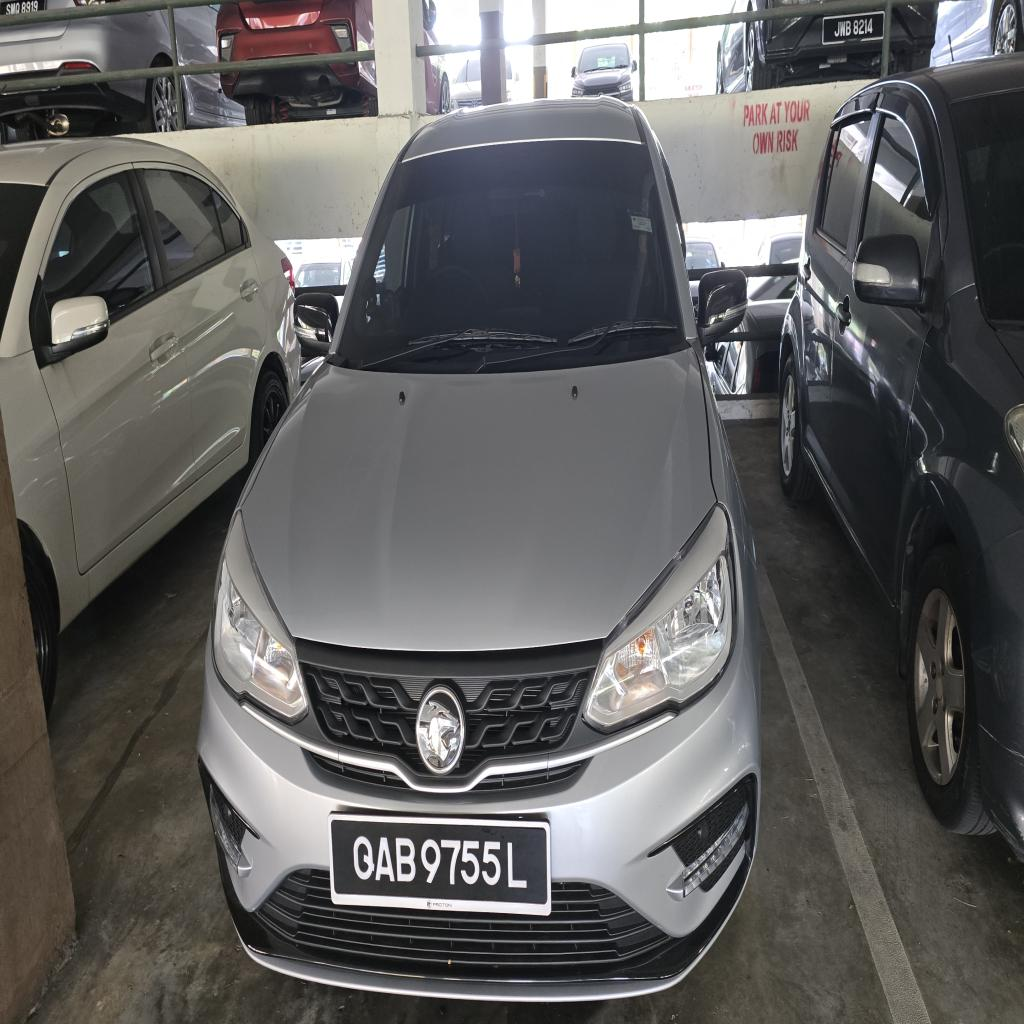car: (199, 98, 760, 999), (717, 6, 885, 92)
car plate: (329, 814, 551, 915), (823, 12, 884, 45)
